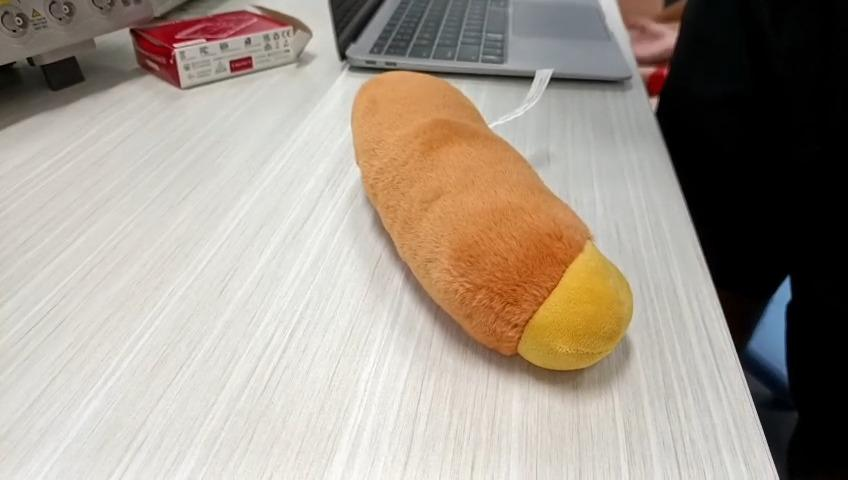hotdog: (353, 70, 634, 371)
